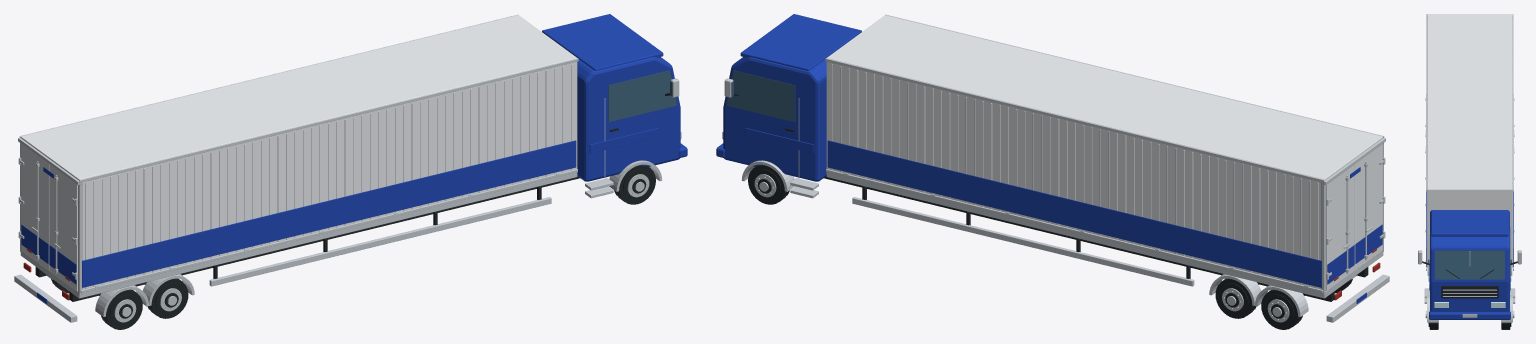
File: SM_GHSPark_ClosedTruck.fbx
The picture shows the model from 3 angles, left to right: view 1: azimuth 30°, elevation 25°; view 2: azimuth 150°, elevation 25°; view 3: azimuth 270°, elevation 25°; orthographic projection. The views are drawn at different scales.
Visible parts, largest first — view 1: SM_GHSPark_ClosedTruck; view 2: SM_GHSPark_ClosedTruck; view 3: SM_GHSPark_ClosedTruck.
Boxes of the visible parts, x1,y1,x2,y2 form: SM_GHSPark_ClosedTruck: [14, 14, 687, 329]; SM_GHSPark_ClosedTruck: [716, 14, 1389, 329]; SM_GHSPark_ClosedTruck: [1418, 14, 1521, 329].
Size of the model in its own units: 1490 by 300 by 374.
